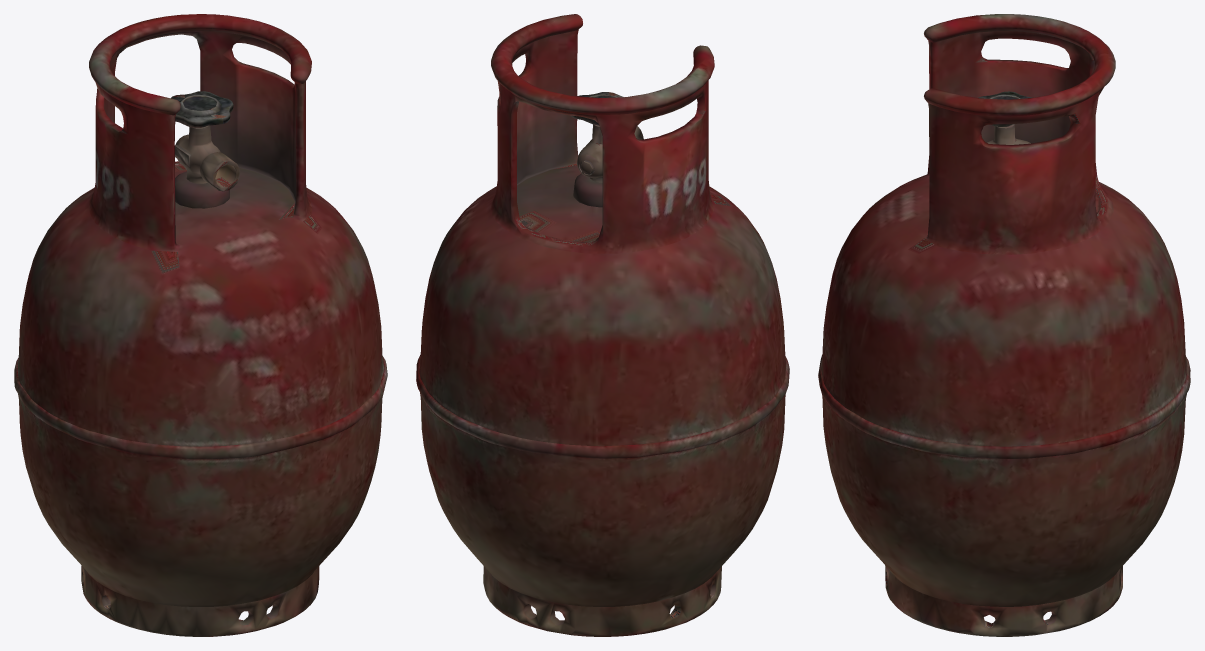
Rendered from small_lpg_tank.glb.
3 views of the same model, side by side, from view 1: azimuth 30°, elevation 25°; view 2: azimuth 150°, elevation 25°; view 3: azimuth 270°, elevation 25° (orthographic).
Visible parts, largest first — view 1: small_lpg_tank; view 2: small_lpg_tank; view 3: small_lpg_tank.
Part boxes in pixels (x1=…): small_lpg_tank: x1=14, y1=14, x2=387, y2=636; small_lpg_tank: x1=416, y1=14, x2=789, y2=636; small_lpg_tank: x1=818, y1=14, x2=1190, y2=636.
Size of the model in its own units: 0.4099 by 0.642 by 0.4092.
1 material, 1 textured.
